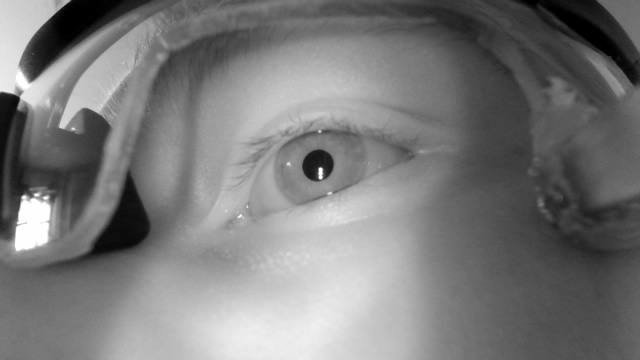pupil: (301, 149, 335, 183)
